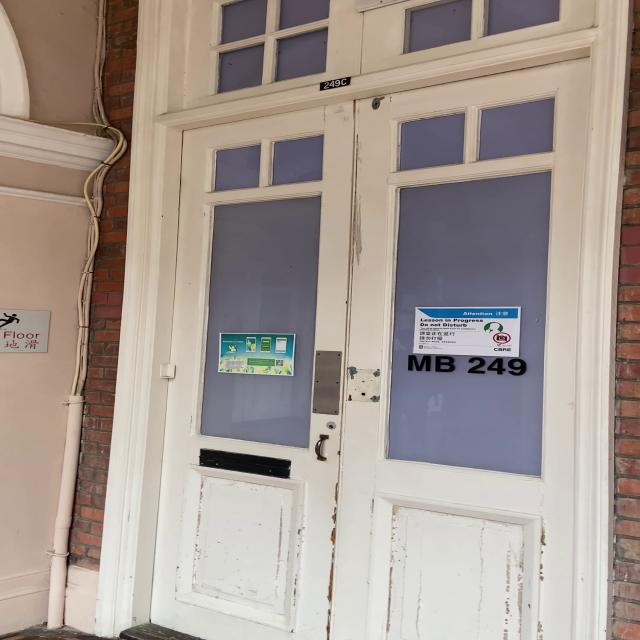room249c: (316, 76, 354, 92)
room249cWindow: (404, 353, 529, 379)
